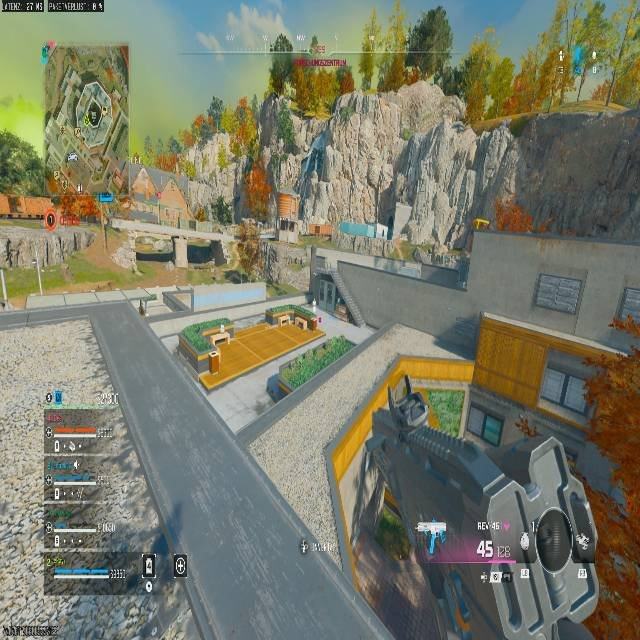player: (258, 234, 280, 297)
